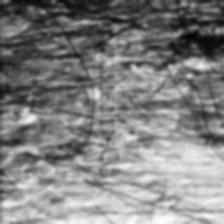Non-Cancerous Skin Condition: (144, 0, 224, 181)
